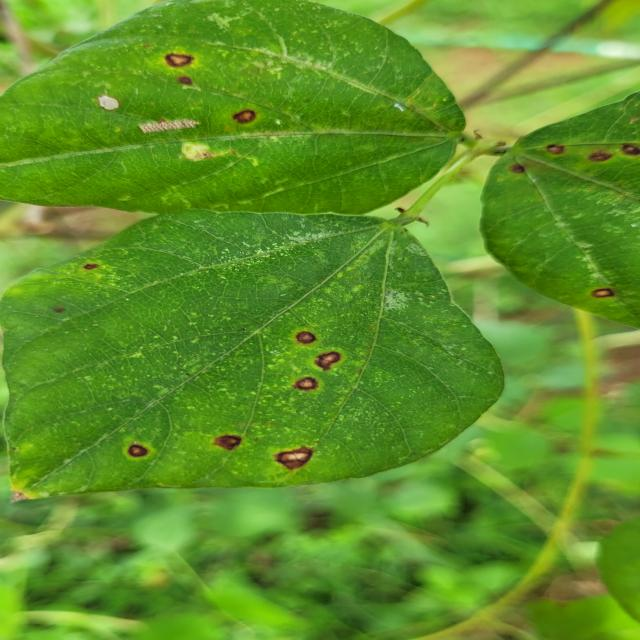Dolicos bean_cercospora leaf spot: (0, 206, 492, 491), (0, 0, 465, 223), (486, 96, 640, 316)
